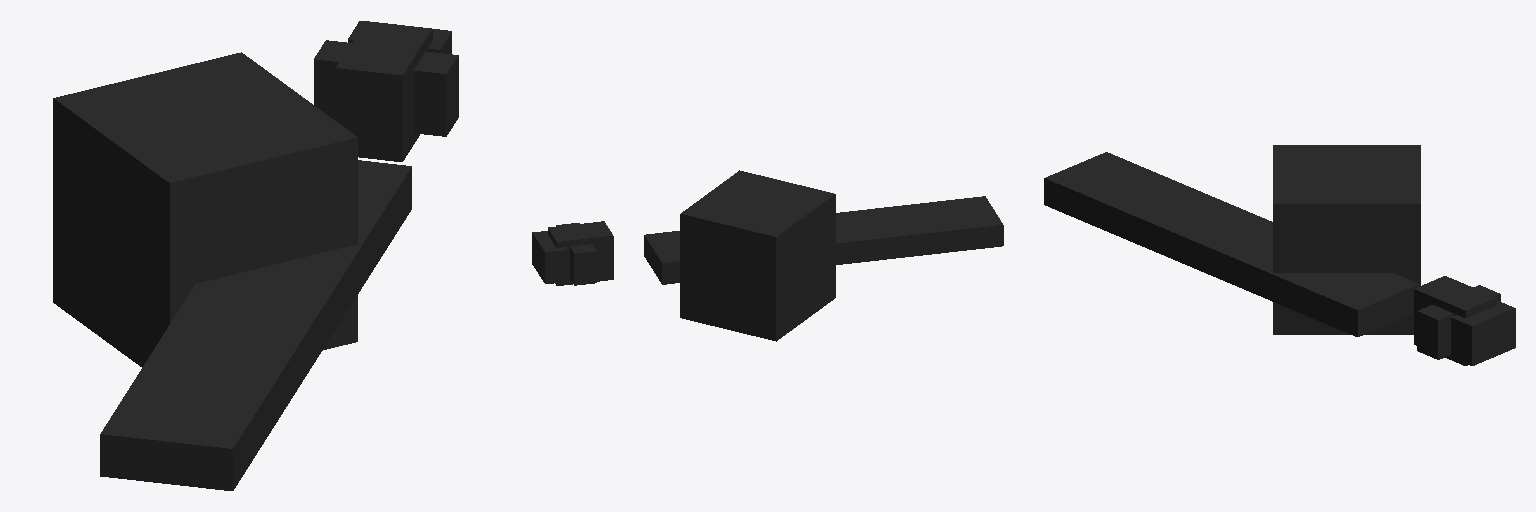
URDF robot description (PhantomX):
<?xml version="1.0" ?>
<!-- =================================================================================== -->
<!-- |    This document was autogenerated by xacro from urdf/phantomx.xacro            | -->
<!-- |    EDITING THIS FILE BY HAND IS NOT RECOMMENDED                                 | -->
<!-- =================================================================================== -->
<robot name="PhantomX" xmlns:xacro="http://www.ros.org/wiki/xacro">
  <link name="map"/>

  <joint name="world_base_link" type="fixed">
    <parent link="map"/>
    <child link="MP_BODY"/>
    <origin xyz="0 0 0" rpy="0 0 0" />    
   </joint>

  
  <link name="MP_BODY">
    <inertial>
      <origin xyz="0 0 0"/>
      <mass value="0.97559947"/>
      <inertia ixx="3.1081800" ixy="-0.25460189" ixz="2.0318174" iyy="6.3787776" iyz="0.16417863" izz="5.3316425"/>
    </inertial>
    <visual>
      <!--origin xyz="-0.0235 0 -0.03525" rpy="0 0 0" /-->
      <origin rpy="0 0 0" xyz="0 0 0"/>
      <geometry>
        <box size="0.102 0.109 0.106" />
        <!--<mesh filename="package://phantomx_description/meshes/body.STL" scale="1 1 1"/>-->
      </geometry>
      <material name="Grey">
        <color rgba="0.20 0.20 0.20 1.0"/>
      </material>
    </visual>
    <collision>
      <origin rpy="0 0 0" xyz="0 0 0"/>
      <geometry>
        <box size="0.102 0.109 0.106" />
        <!--<mesh filename="package://phantomx_description/meshes/body_coll.STL" scale="1 1 1"/>-->
      </geometry>
    </collision>
  </link>
  <gazebo reference="MP_BODY">
    <material>Gazebo/Grey</material>
  </gazebo>
  
  
  
  <link name="c1_lf">
    <inertial>
      <origin rpy="0 0 0" xyz="0 -0.02633 0"/>
      <mass value="0.024357719"/>
      <inertia ixx="0.0051411124" ixy="-0.00057530255" ixz="-0.000024729049" iyy="0.0081915737" iyz="-0.000019223094" izz="0.0011379812"/>
    </inertial>
    <visual>
      <origin rpy="0 0 0" xyz="0 -0.0252 0"/>
      <geometry>
        <box size="0.045 0.054 0.0325" />
        <!--mesh filename="package://phantomx_description/meshes/connect.STL" scale="1 1 1"/-->
      </geometry>
      <material name="Grey">
        <color rgba="0.20 0.20 0.20 1.0"/>
      </material>
    </visual>
    <collision>
      <origin rpy="0 0 0" xyz="0 -0.02633 0"/>
      <geometry>
        <box size="0.045 0.022 0.0325" />
        <mesh filename="package://phantomx_description/meshes/connect_coll.STL" scale="1 1 1"/>
      </geometry>
    </collision>
  </link>
  <link name="c2_lf">
    <inertial>
      <origin rpy="0 0 0" xyz="0 -0.02633 0"/>
      <mass value="0.024357719"/>
      <inertia ixx="0.0051411124" ixy="-0.00057530255" ixz="-0.000024729049" iyy="0.0081915737" iyz="-0.000019223094" izz="0.0011379812"/>
    </inertial>
    <visual>
      <origin rpy="0 0 0" xyz="0 -0.0252 0"/>
      <geometry>
        <box size="0.0645 0.022 0.0325" />
        <!--mesh filename="package://phantomx_description/meshes/connect.STL" scale="1 1 1"/-->
      </geometry>
      <material name="Grey">
        <color rgba="0.20 0.20 0.20 1.0"/>
      </material>
    </visual>
    <collision>
      <origin rpy="0 0 0" xyz="0 -0.02633 0"/>
      <geometry>
        <box size="0.045 0.022 0.0325" />
        <!--mesh filename="package://phantomx_description/meshes/connect_coll.STL" scale="1 1 1"/-->
      </geometry>
    </collision>
  </link>
  <link name="thigh_lf">
    <inertial>
      <origin rpy="0 0 0" xyz="0 0 0"/>
      <mass value="0.024357719"/>
      <inertia ixx="0.0051411124" ixy="-0.00057530255" ixz="-0.000024729049" iyy="0.0081915737" iyz="-0.000019223094" izz="0.0011379812"/>
    </inertial>
    <visual>
      <origin rpy="0 0 0" xyz="0 0 0"/>
      <geometry>
        <box size="0.045 0.022 0.0325" />
        <!--mesh filename="package://phantomx_description/meshes/thigh_l.STL" scale="1 1 1"/-->
      </geometry>
      <material name="Grey">
        <color rgba="0.20 0.20 0.20 1.0"/>
      </material>
    </visual>
    <collision>
      <origin rpy="0 0 0" xyz="0 0 0"/>
      <geometry>
        <box size="0.045 0.022 0.0325" />
        <!--mesh filename="package://phantomx_description/meshes/thigh_l_coll.STL" scale="1 1 1"/-->
      </geometry>
    </collision>
  </link>
  <link name="tibia_lf">
    <inertial>
      <origin rpy="0 0 0" xyz="0 0 0"/>
      <mass value="0.024357719"/>
      <inertia ixx="0.0051411124" ixy="-0.00057530255" ixz="-0.000024729049" iyy="0.0081915737" iyz="-0.000019223094" izz="0.0011379812"/>
    </inertial>
    <visual>
      <origin rpy="0 0 0" xyz="0 0 -0.325"/>
      <geometry>
        <box size="0.0645 0.022 0.325" />
        <!--mesh filename="package://phantomx_description/meshes/tibia_l.STL" scale="1 1 1"/-->
      </geometry>
      <material name="Grey">
        <color rgba="0.20 0.20 0.20 1.0"/>
      </material>
    </visual>
    <collision>
      <origin rpy="0 0 0" xyz="0 0 0"/>
      <geometry>
        <box size="0.045 0.022 0.0325" />
        <!--mesh filename="package://phantomx_description/meshes/tibia_l_coll.STL" scale="1 1 1"/-->
      </geometry>
    </collision>
  </link>
  <joint name="j_c1_lf" type="revolute">
    <parent link="MP_BODY"/>
    <child link="c1_lf"/>
    <origin rpy="0 4.7123 2.356194490192345" xyz="0.1248 0.06164  0.001116"/>
    <axis xyz="1 0 0"/>
    <limit effort="2.8" lower="-6.3" upper="6.3" velocity="5.6548668"/>
  </joint>
  <joint name="j_c2_lf" type="fixed">
    <parent link="c1_lf"/>
    <child link="c2_lf"/>
    <origin rpy="0 1.5704 3.14159" xyz="0 -0.054 0"/>
  </joint>
  <joint name="j_thigh_lf" type="revolute">
    <parent link="c2_lf"/>
    <child link="thigh_lf"/>
    <!--origin xyz="0 0 0" rpy=" 0 3.14159 3.14159" /-->
    <origin rpy="3.14159 0  0" xyz="0 0 0"/>
    <axis xyz="1 0 0"/>
    <limit effort="2.8" lower="-6.3" upper="6.3" velocity="5.6548668"/>
  </joint>
  <joint name="j_tibia_lf" type="revolute">
    <parent link="thigh_lf"/>
    <child link="tibia_lf"/>
    <origin rpy="-1.5707 0 3.14159" xyz="0 -0.0645 -0.0145"/>
    <axis xyz="1 0 0"/>
    <limit effort="2.8" lower="-6.3" upper="6.3" velocity="5.6548668"/>
  </joint>
  <transmission name="t_c1_lf">
    <type>transmission_interface/SimpleTransmission</type>
    <joint name="j_c1_lf">
      <hardwareInterface>EffortJointInterface</hardwareInterface>
    </joint>
    <actuator name="m_c1_lf">
      <hardwareInterface>EffortJointInterface</hardwareInterface>
      <mechanicalReduction>1</mechanicalReduction>
    </actuator>
  </transmission>
  <transmission name="t_thigh_lf">
    <type>transmission_interface/SimpleTransmission</type>
    <joint name="j_thigh_lf">
      <hardwareInterface>EffortJointInterface</hardwareInterface>
    </joint>
    <actuator name="m_thigh_lf">
      <hardwareInterface>EffortJointInterface</hardwareInterface>
      <mechanicalReduction>1</mechanicalReduction>
    </actuator>
  </transmission>
  <transmission name="t_tibia_lf">
    <type>transmission_interface/SimpleTransmission</type>
    <joint name="j_tibia_lf">
      <hardwareInterface>EffortJointInterface</hardwareInterface>
    </joint>
    <actuator name="m_tibia_lf">
      <hardwareInterface>EffortJointInterface</hardwareInterface>
      <mechanicalReduction>1</mechanicalReduction>
    </actuator>
  </transmission>
  <gazebo reference="c1_lf">
    <material>Gazebo/Grey</material>
  </gazebo>
  <gazebo reference="c2_lf">
    <material>Gazebo/Grey</material>
  </gazebo>
  <gazebo reference="thigh_lf">
    <material>Gazebo/Grey</material>
  </gazebo>
  <gazebo reference="tibia_lf">
    <material>Gazebo/Grey</material>
  </gazebo>
</robot>

--- What the picture shows (computed from the rendered views, not written in the file) ---
3 views of the same robot in one strip: view 1: azimuth 30°, elevation 25°; view 2: azimuth 150°, elevation 25°; view 3: azimuth 270°, elevation 25° (orthographic).
Model PhantomX with 6 links and 5 joints (3 revolute, 2 fixed), rooted at map, posed all joints at 0.
Visible links, largest first — view 1: MP_BODY, tibia_lf, c1_lf, c2_lf, thigh_lf; view 2: MP_BODY, tibia_lf, c1_lf, thigh_lf, c2_lf; view 3: tibia_lf, MP_BODY, thigh_lf, c1_lf, c2_lf.
Link boxes in pixels (left/top/right/bottom): MP_BODY: left=53, top=52, right=357, bottom=366; tibia_lf: left=100, top=160, right=411, bottom=490; c1_lf: left=336, top=21, right=432, bottom=161; c2_lf: left=314, top=40, right=458, bottom=136; thigh_lf: left=348, top=21, right=451, bottom=53; MP_BODY: left=680, top=170, right=835, bottom=341; tibia_lf: left=644, top=196, right=1003, bottom=284; c1_lf: left=548, top=221, right=613, bottom=285; thigh_lf: left=532, top=231, right=567, bottom=283; c2_lf: left=556, top=223, right=596, bottom=285; tibia_lf: left=1044, top=152, right=1419, bottom=336; MP_BODY: left=1273, top=145, right=1420, bottom=334; thigh_lf: left=1451, top=300, right=1515, bottom=365; c1_lf: left=1414, top=276, right=1496, bottom=365; c2_lf: left=1417, top=285, right=1500, bottom=359.
Bounding box of the posed robot: 0.3456 × 0.3456 × 0.106 m (x, y, z).
Geometry: primitives only (box / cylinder / sphere), no mesh files.